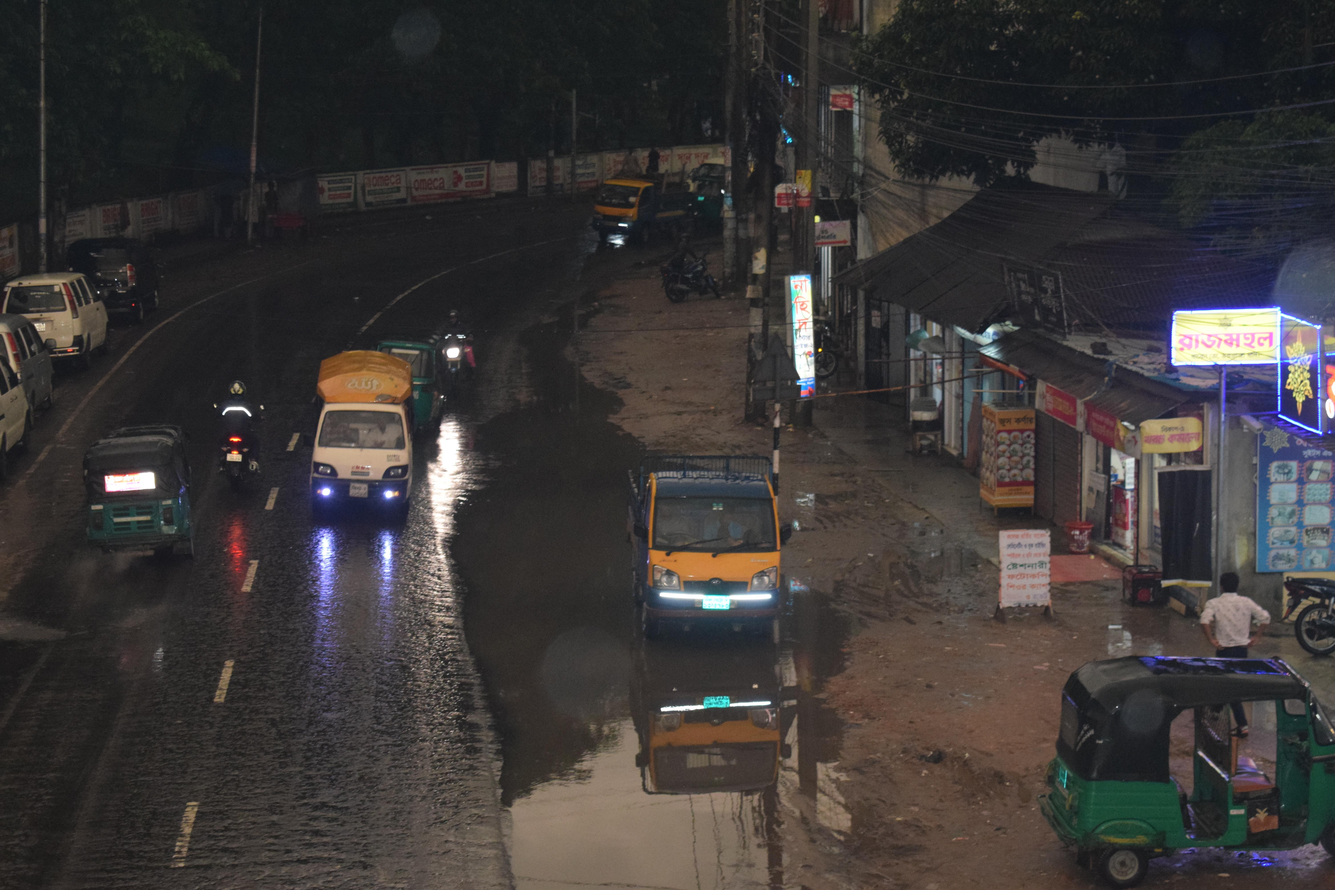Bike: (189, 356, 293, 526), (645, 227, 743, 316)
Car: (274, 328, 452, 548), (44, 218, 182, 334), (8, 255, 117, 370), (0, 306, 68, 487)
Truck: (585, 410, 840, 673), (573, 163, 672, 253)
